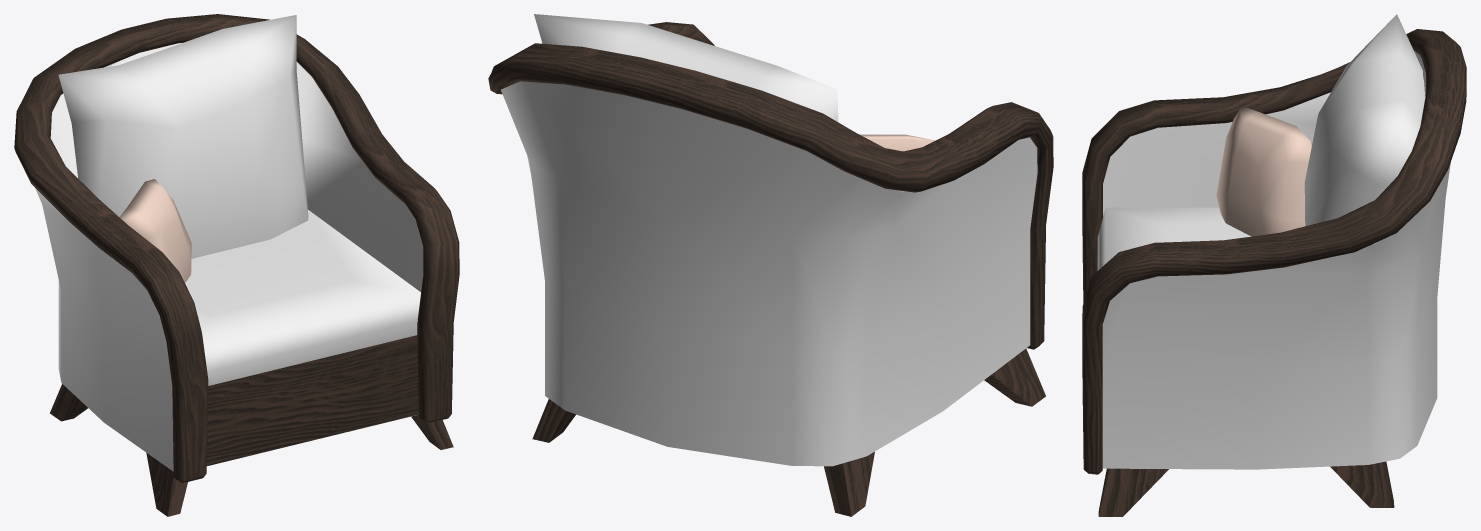
Rendered from chair_013.fbx.
3 renders of one model, left to right at view 1: azimuth 30°, elevation 25°; view 2: azimuth 150°, elevation 25°; view 3: azimuth 270°, elevation 25°, orthographic. The views are drawn at different scales.
Visible parts, largest first — view 1: chair_013; view 2: chair_013; view 3: chair_013.
Boxes of the visible parts, x1,y1,x2,y2 form: chair_013: (14, 14, 459, 516); chair_013: (488, 14, 1053, 516); chair_013: (1082, 14, 1466, 516).
Size of the model in its own units: 123 by 114 by 121.
